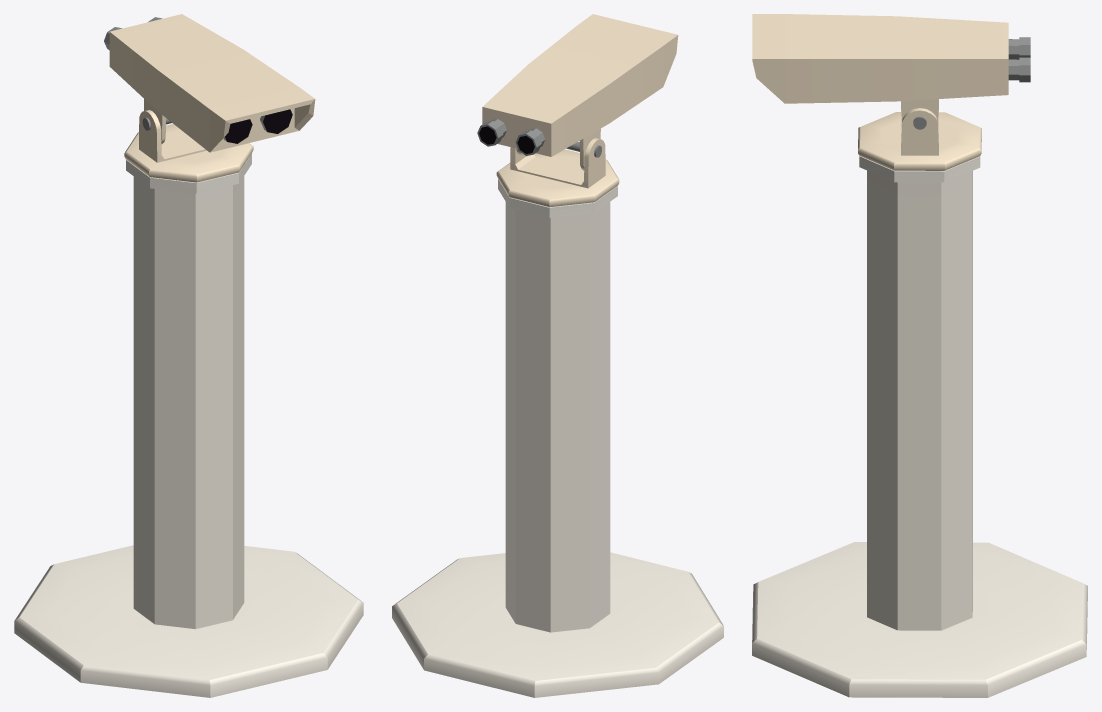
Rendered from M_Sem04_Prop_Binocular_SBoewing 1.fbx.
3 renders of one model, left to right at view 1: azimuth 30°, elevation 25°; view 2: azimuth 150°, elevation 25°; view 3: azimuth 270°, elevation 25°, orthographic. The views are drawn at different scales.
Visible parts, largest first — view 1: binocular_scharnier; view 2: binocular_scharnier; view 3: binocular_scharnier.
Part boxes in pixels (x1,y1,x2,y2): binocular_scharnier: [14, 14, 363, 697]; binocular_scharnier: [392, 14, 723, 697]; binocular_scharnier: [752, 14, 1087, 697].
Size of the model in its own units: 65.09 by 126 by 65.09.
